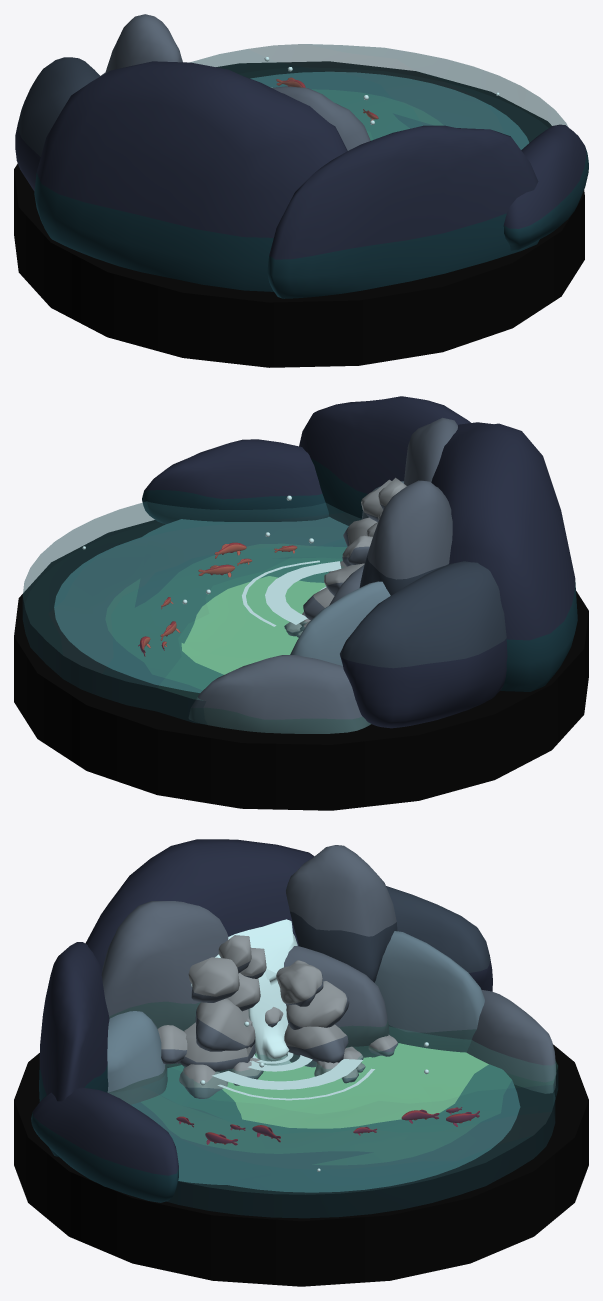
The model's file is pond.fbx.
The picture shows the model from 3 angles, top to bottom: view 1: azimuth 30°, elevation 25°; view 2: azimuth 150°, elevation 25°; view 3: azimuth 270°, elevation 25°; orthographic projection.
Parts seen in each view (by area): view 1: pond; view 2: pond; view 3: pond.
Boxes of the visible parts, x1,y1,x2,y2 form: pond: [14, 14, 588, 367]; pond: [14, 396, 588, 810]; pond: [14, 839, 588, 1286].
Size of the model in its own units: 26.63 by 12.99 by 26.31.
2 materials, 2 textured.
